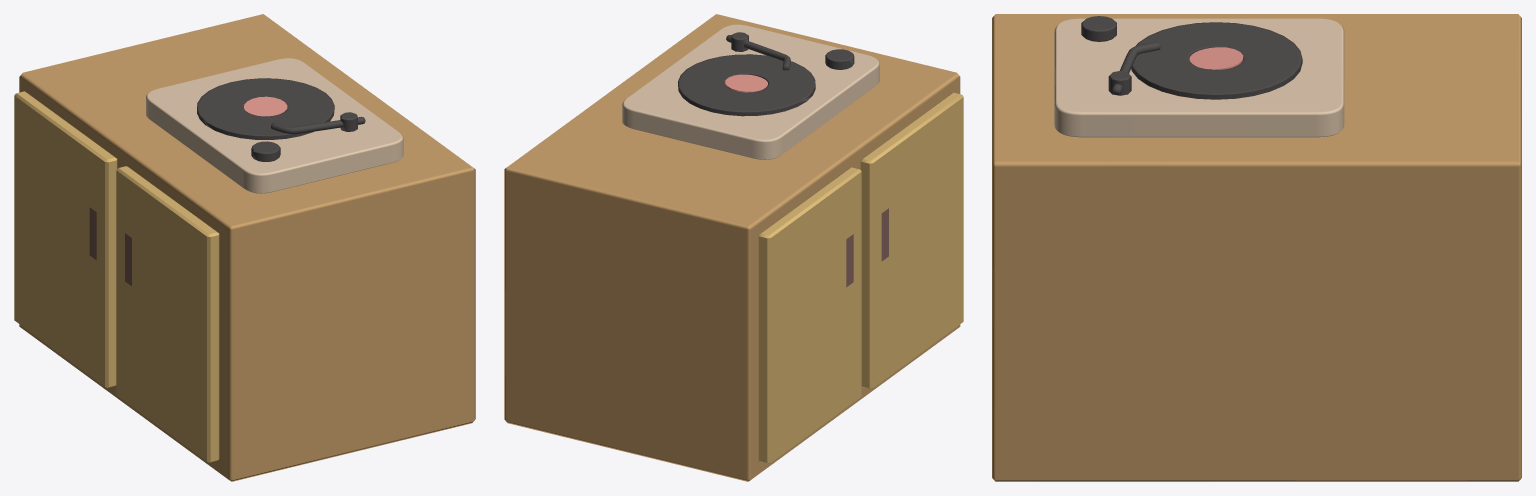
Rendered from cabinet-transformed.glb.
The picture shows the model from 3 angles, left to right: view 1: azimuth 30°, elevation 25°; view 2: azimuth 150°, elevation 25°; view 3: azimuth 270°, elevation 25°; orthographic projection. The views are drawn at different scales.
Parts seen in each view (by area): view 1: Cube 2.006, Merged Geometry.017, Rectangle 2.001, Cylinder.003, Merged Geometry 2.003, 红色, Cube.003, Cylinder 2.002; view 2: Cube 2.006, Merged Geometry.017, Rectangle 2.001, Cylinder.003, Merged Geometry 2.003, 红色, Cylinder 2.002, Cube.003; view 3: Cube 2.006, Rectangle 2.001, Cylinder.003, 红色, Cylinder 2.002, Cube.003.
Part boxes in pixels (x1,y1,x2,y2): Cube 2.006: (19,14,475,481); Merged Geometry.017: (14,91,219,462); Rectangle 2.001: (146,58,403,193); Cylinder.003: (197,78,334,139); Merged Geometry 2.003: (89,207,131,285); 红色: (244,96,287,116); Cube.003: (271,116,365,134); Cylinder 2.002: (251,141,280,161); Cube 2.006: (504,14,960,481); Merged Geometry.017: (758,92,963,463); Rectangle 2.001: (622,24,879,159); Cylinder.003: (678,54,815,116); Merged Geometry 2.003: (846,208,888,287); 红色: (725,74,767,92); Cylinder 2.002: (825,49,854,69); Cube.003: (726,35,790,70); Cube 2.006: (992,14,1521,481); Rectangle 2.001: (1054,18,1344,137); Cylinder.003: (1131,22,1302,99); 红色: (1189,47,1243,69); Cylinder 2.002: (1081,16,1116,41); Cube.003: (1112,42,1160,94).
Size of the model in its own units: 0.9058 by 0.9641 by 1.28.
